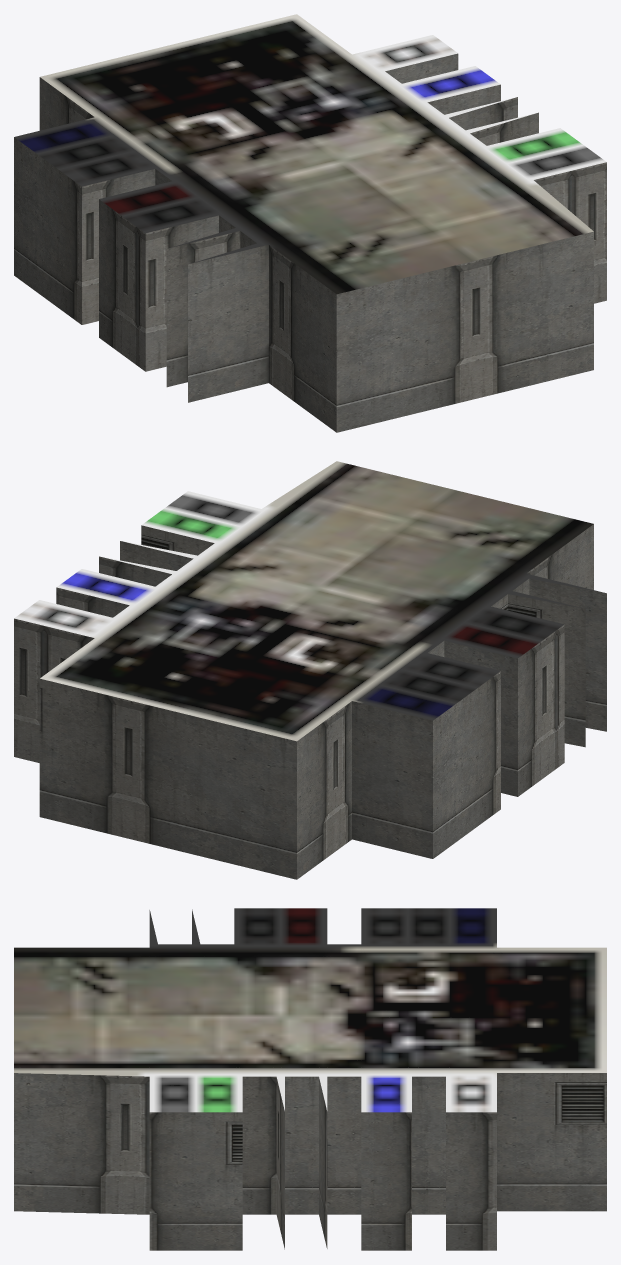
File: BuildingSystem-03-Advance-04-ReinforcedLow-Z-107-01.glb
The picture shows the model from 3 angles, top to bottom: view 1: azimuth 30°, elevation 25°; view 2: azimuth 150°, elevation 25°; view 3: azimuth 270°, elevation 25°; orthographic projection.
Parts seen in each view (by area): view 1: buildings/saxarba/SMV_Buildings/BuildingSystem-03-Advance-04; view 2: buildings/saxarba/SMV_Buildings/BuildingSystem-03-Advance-04; view 3: buildings/saxarba/SMV_Buildings/BuildingSystem-03-Advance-04.
Part boxes in pixels (left/top/right/bottom): buildings/saxarba/SMV_Buildings/BuildingSystem-03-Advance-04: left=14, top=14, right=606, bottom=432; buildings/saxarba/SMV_Buildings/BuildingSystem-03-Advance-04: left=14, top=461, right=606, bottom=879; buildings/saxarba/SMV_Buildings/BuildingSystem-03-Advance-04: left=14, top=908, right=606, bottom=1250.
Size of the model in its own units: 57 by 18 by 70.
